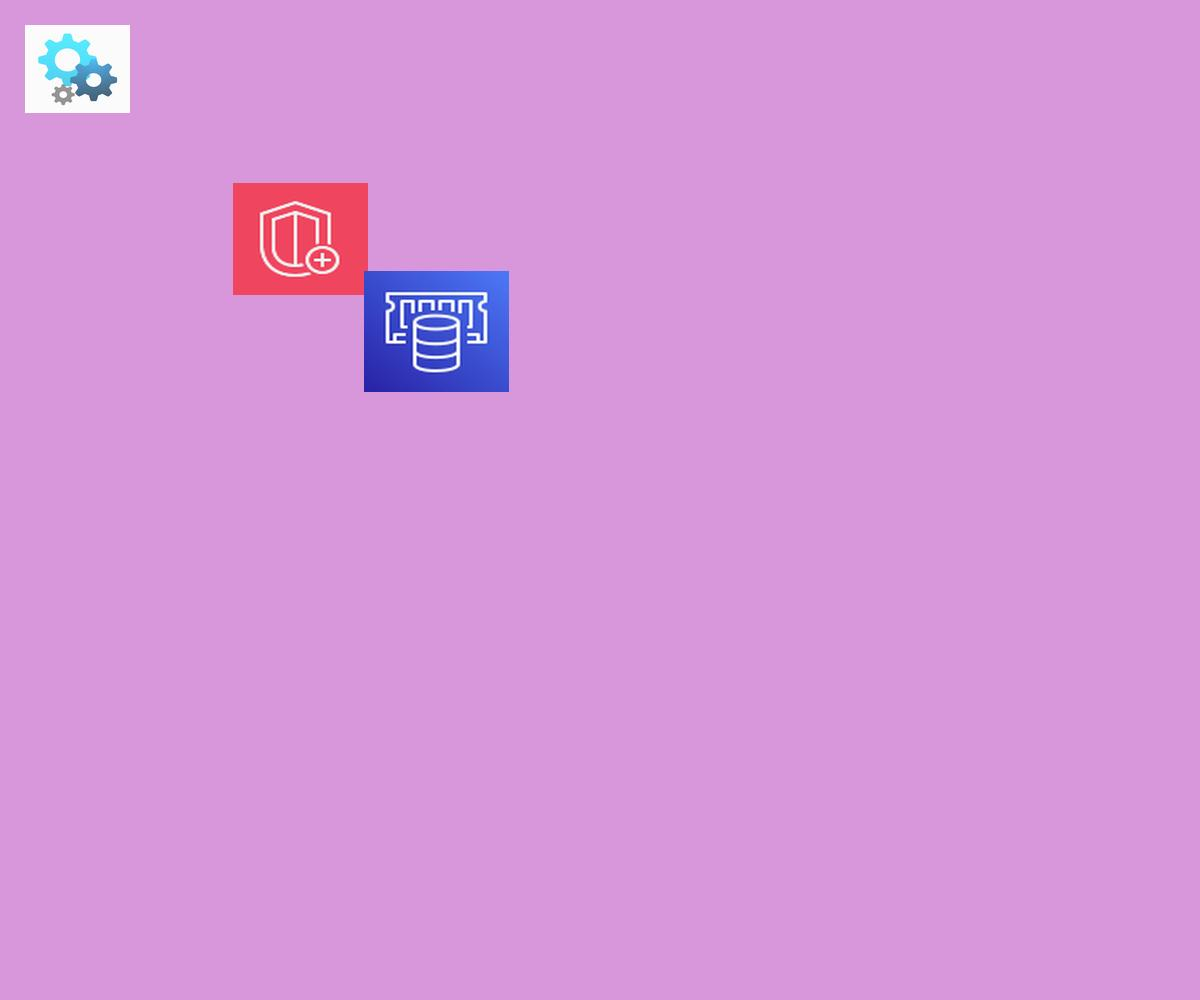AWS-ElastiCache: (364, 271, 509, 392)
AWS-Shield: (233, 183, 368, 295)
Azure_api: (25, 25, 130, 113)
